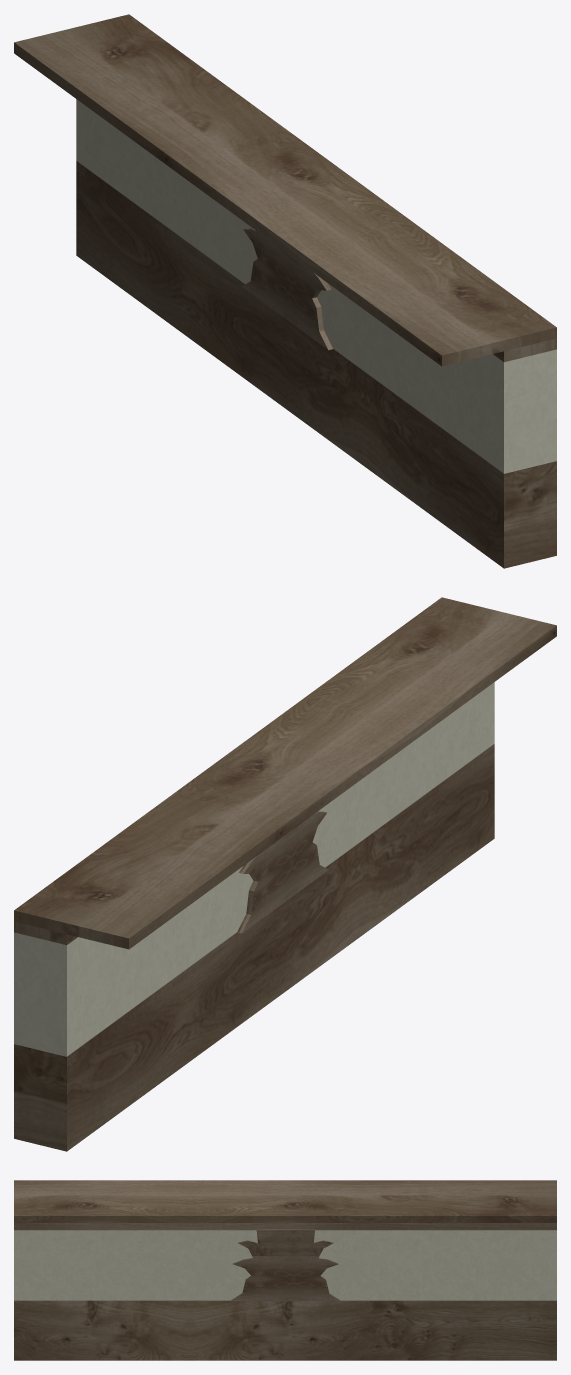
File: SM_Sun_Won_Jang_B.fbx
3 renders of one model, top to bottom at view 1: azimuth 30°, elevation 25°; view 2: azimuth 150°, elevation 25°; view 3: azimuth 270°, elevation 25°, orthographic. The views are drawn at different scales.
Visible parts, largest first — view 1: SM_Sun_Won_Jang_B; view 2: SM_Sun_Won_Jang_B; view 3: SM_Sun_Won_Jang_B.
Boxes of the visible parts, box(x1,y1,x2,y2) form: SM_Sun_Won_Jang_B: box(14, 14, 556, 568); SM_Sun_Won_Jang_B: box(14, 597, 556, 1151); SM_Sun_Won_Jang_B: box(14, 1180, 556, 1360).
Size of the model in its own units: 33.24 by 61.83 by 210.
